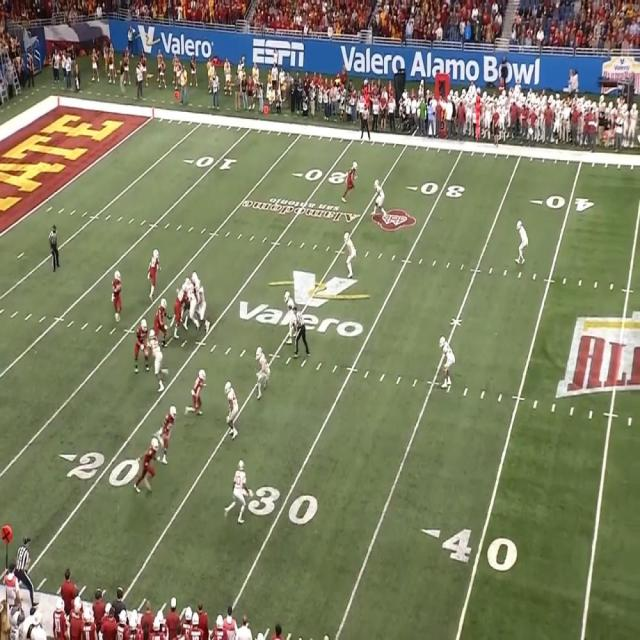db: (233, 459, 248, 521), (441, 334, 457, 386), (227, 379, 240, 436), (376, 180, 388, 220), (519, 219, 529, 265)
lb: (282, 289, 299, 342), (255, 344, 269, 392), (346, 233, 359, 276)
qb: (111, 271, 123, 324)
skill: (134, 442, 156, 494), (159, 404, 176, 464), (192, 368, 208, 414), (148, 248, 160, 303), (346, 164, 358, 201)
